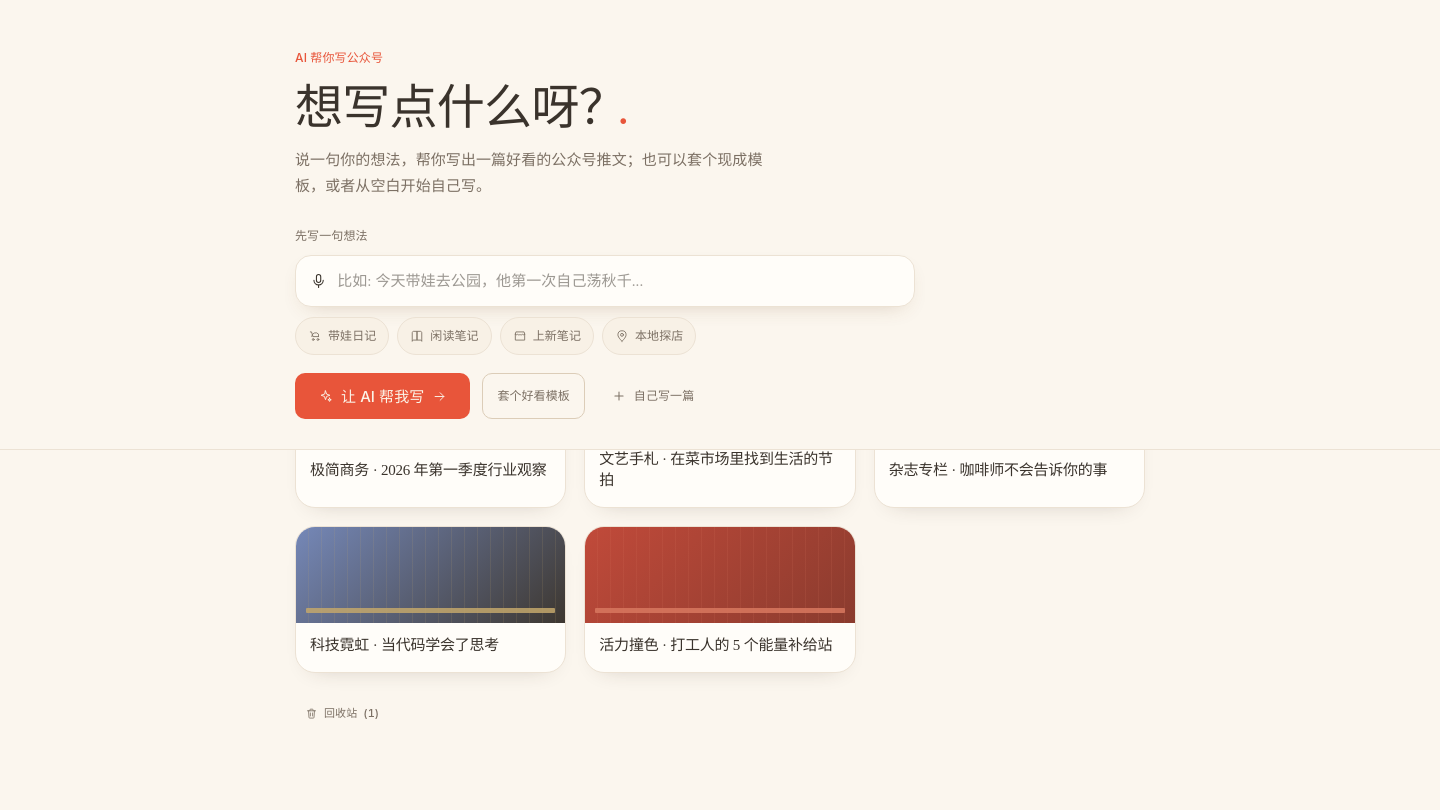
Test case: HomeSurface · 回收站入口(可达性回归:不许再挂到孤儿 ArticleList) › 点回收站入口展开 TrashPanel(含被删文章行)
(page scrolled)
Click the button with test id "trash-toggle": (342, 714) [295,701,389,726]
(page scrolled)
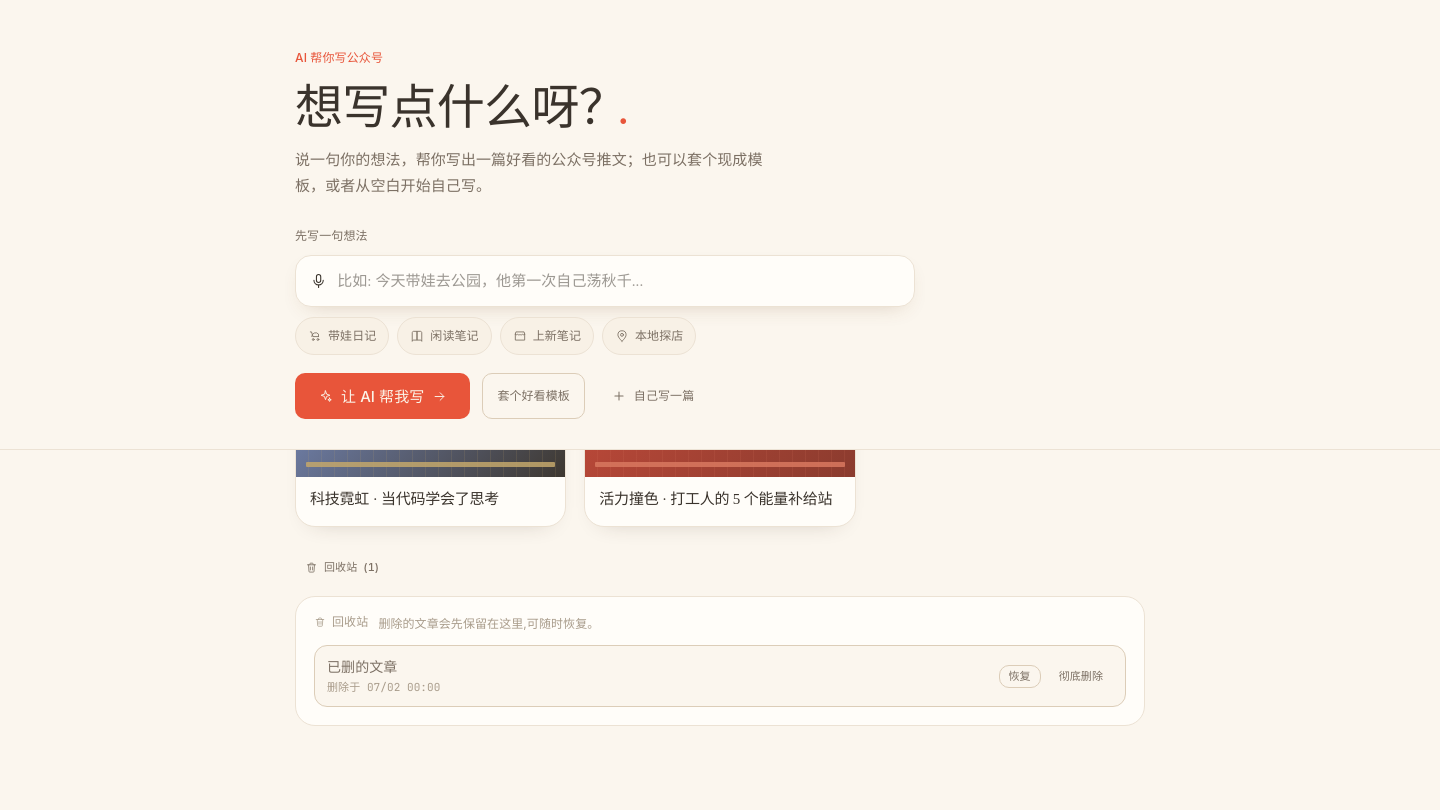
Now the element with test id "trash-panel" is shown, box [295,596,1145,726]
Now the element with test id "trash-row-t1" is shown, box [314,645,1126,707]
